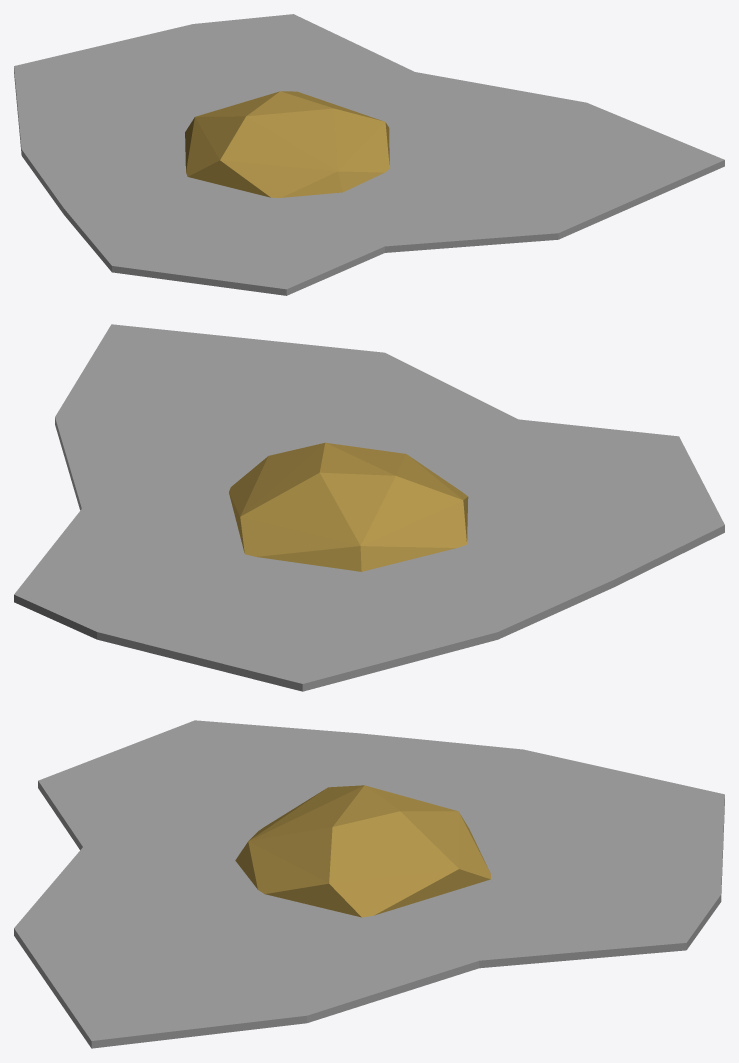
Rendered from egg-fried-5eb2c242f4.glb.
3 views of the same model, one above another, from view 1: azimuth 30°, elevation 25°; view 2: azimuth 150°, elevation 25°; view 3: azimuth 270°, elevation 25° (orthographic). The views are drawn at different scales.
Parts seen in each view (by area): view 1: Egg_Fried.obj; view 2: Egg_Fried.obj; view 3: Egg_Fried.obj.
Part boxes in pixels (x1,y1,x2,y2): Egg_Fried.obj: (14, 14, 724, 295); Egg_Fried.obj: (14, 324, 724, 691); Egg_Fried.obj: (14, 720, 724, 1048).
Size of the model in its own units: 1.19 by 0.1071 by 1.12.
